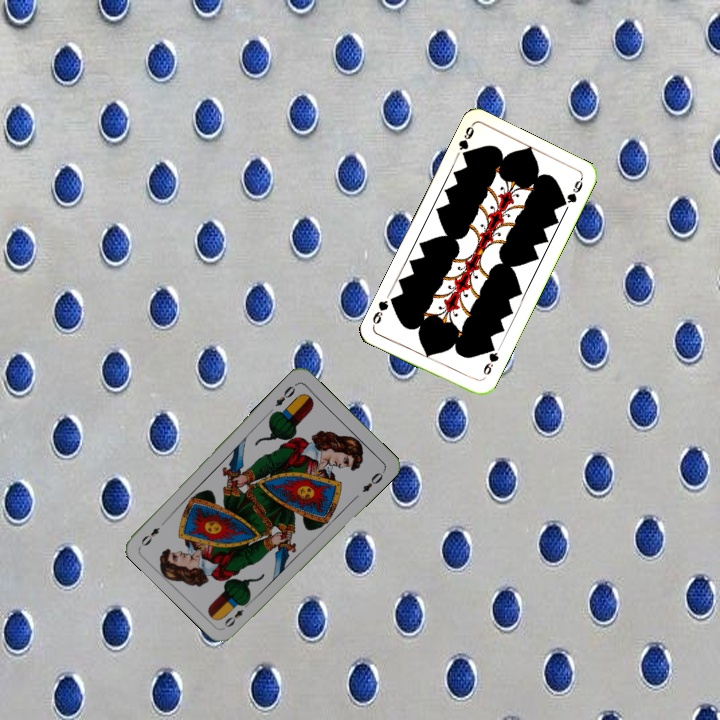EO: (220, 597, 253, 630), (271, 382, 298, 409)
G9: (454, 121, 477, 162), (478, 342, 501, 382)
